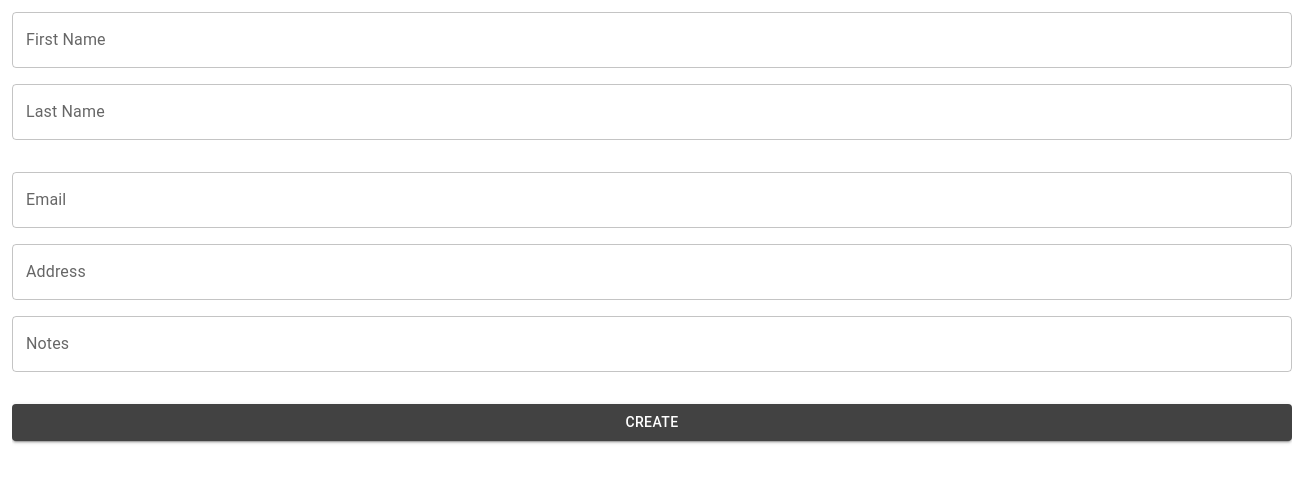
ContactEditorForm › shows Invalid email error when email is wrong
This screenshot has width=1304, height=483.
Step 1. Type "notanemail" into the field labelled "Email" → [652, 200], box [12,172,1292,228]
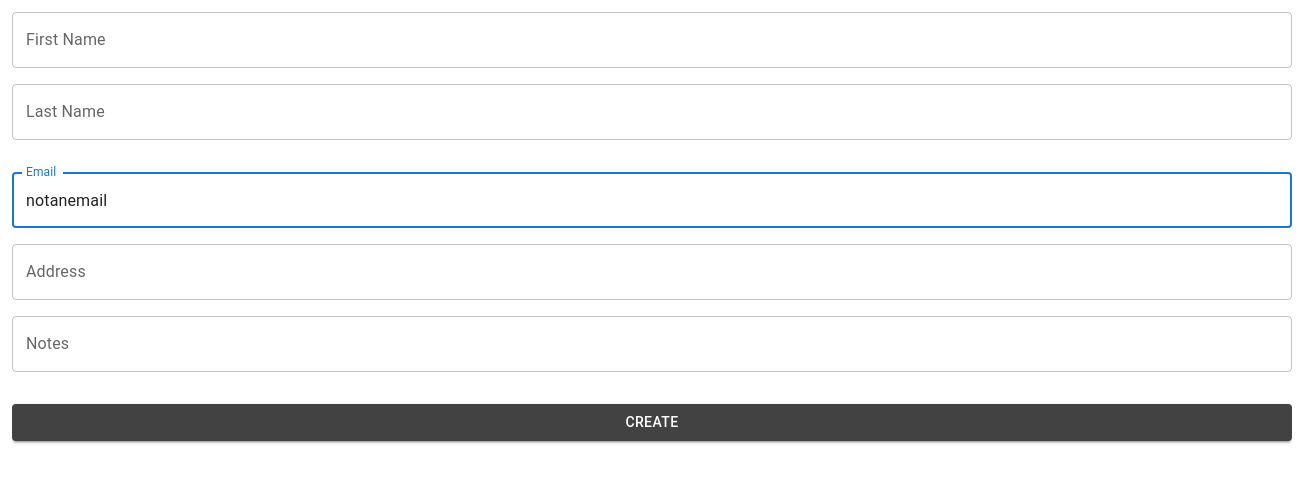
Step 2. Press Tab
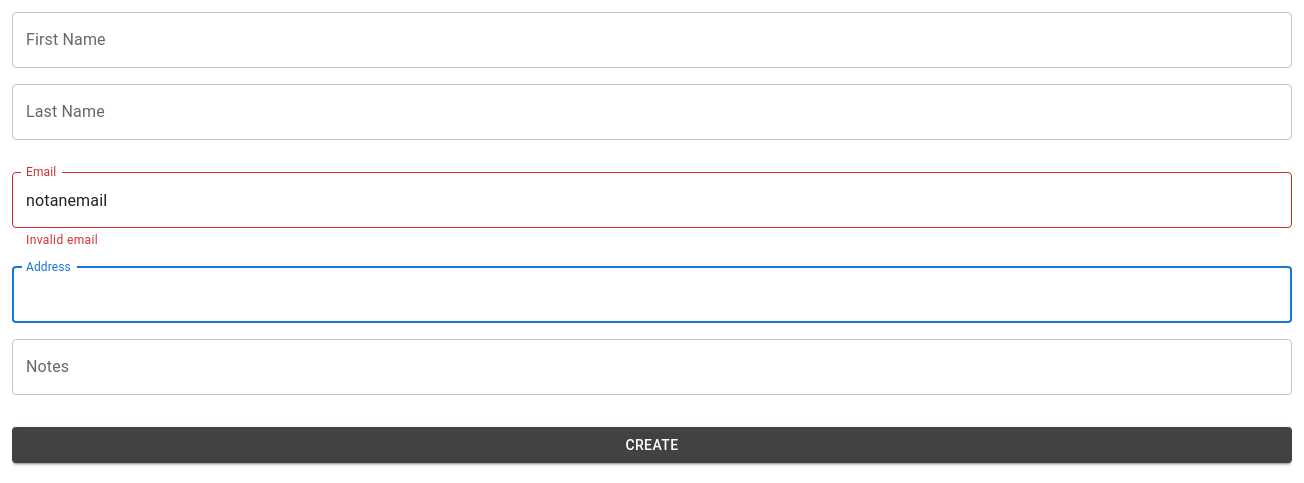
expect the text "Invalid email" is shown: met, box [26,233,98,247]
